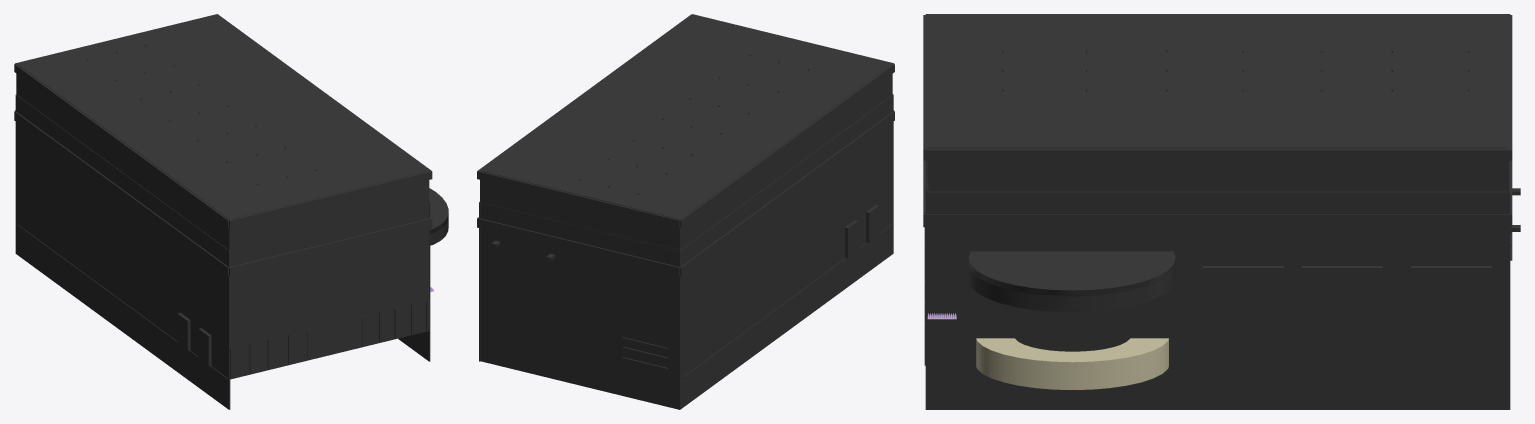
Rendered from TargetTeleporting_Level2.fbx.
3 renders of one model, left to right at view 1: azimuth 30°, elevation 25°; view 2: azimuth 150°, elevation 25°; view 3: azimuth 270°, elevation 25°, orthographic. The views are drawn at different scales.
Parts seen in each view (by area): view 1: Cube4, Cube21_63, Cube24, Cube30, Cube11_31, Cube13, Cube26_266, Cube80, Cube29_272, Cube83, Cube81, Cube5 (+4 smaller); view 2: Cube4, Cube21_63, Cube22, Cube11_31, Cube14, Cube26_266, Cube80, Cube28, Cube82, Cube81, Floor, Cube47 (+1 smaller); view 3: Cube23, Cube4, Cube12, Cube27_269, Cylinder29_206, Shape_Tube_275, Cube81, Cylinder30_262, Cube77_16, Cube80, Cube5, Cube82 (+1 smaller).
Part boxes in pixels (x1=…): Cube4: x1=17, y1=15, x2=427, y2=219; Cube21_63: x1=15, y1=94, x2=229, y2=409; Cube24: x1=229, y1=201, x2=428, y2=348; Cube30: x1=230, y1=301, x2=428, y2=379; Cube11_31: x1=16, y1=73, x2=229, y2=249; Cube13: x1=229, y1=180, x2=429, y2=249; Cube26_266: x1=14, y1=111, x2=228, y2=276; Cube80: x1=14, y1=63, x2=230, y2=227; Cube29_272: x1=229, y1=218, x2=432, y2=276; Cube83: x1=229, y1=170, x2=432, y2=228; Cube81: x1=216, y1=14, x2=430, y2=170; Cube5: x1=398, y1=202, x2=429, y2=361; Cube4: x1=481, y1=15, x2=892, y2=219; Cube21_63: x1=679, y1=94, x2=893, y2=409; Cube22: x1=480, y1=202, x2=678, y2=409; Cube11_31: x1=679, y1=74, x2=892, y2=250; Cube14: x1=480, y1=180, x2=679, y2=250; Cube26_266: x1=680, y1=111, x2=894, y2=276; Cube80: x1=679, y1=64, x2=894, y2=228; Cube28: x1=477, y1=218, x2=679, y2=276; Cube82: x1=477, y1=170, x2=680, y2=228; Cube81: x1=478, y1=14, x2=693, y2=171; Floor: x1=682, y1=224, x2=892, y2=378; Cube47: x1=866, y1=204, x2=879, y2=242; Cube23: x1=925, y1=191, x2=1510, y2=409; Cube4: x1=926, y1=14, x2=1509, y2=148; Cube12: x1=928, y1=160, x2=1508, y2=191; Cube27_269: x1=925, y1=214, x2=1510, y2=227; Cylinder29_206: x1=968, y1=251, x2=1175, y2=296; Shape_Tube_275: x1=976, y1=338, x2=1168, y2=389; Cube81: x1=925, y1=148, x2=1510, y2=160; Cylinder30_262: x1=968, y1=265, x2=1175, y2=312; Cube77_16: x1=1033, y1=310, x2=1110, y2=321; Cube80: x1=925, y1=14, x2=1510, y2=15; Cube5: x1=925, y1=191, x2=1510, y2=191; Cube82: x1=1508, y1=15, x2=1512, y2=160.
Size of what is drawn, in the model's own units: 9790 by 14048 by 6838.
